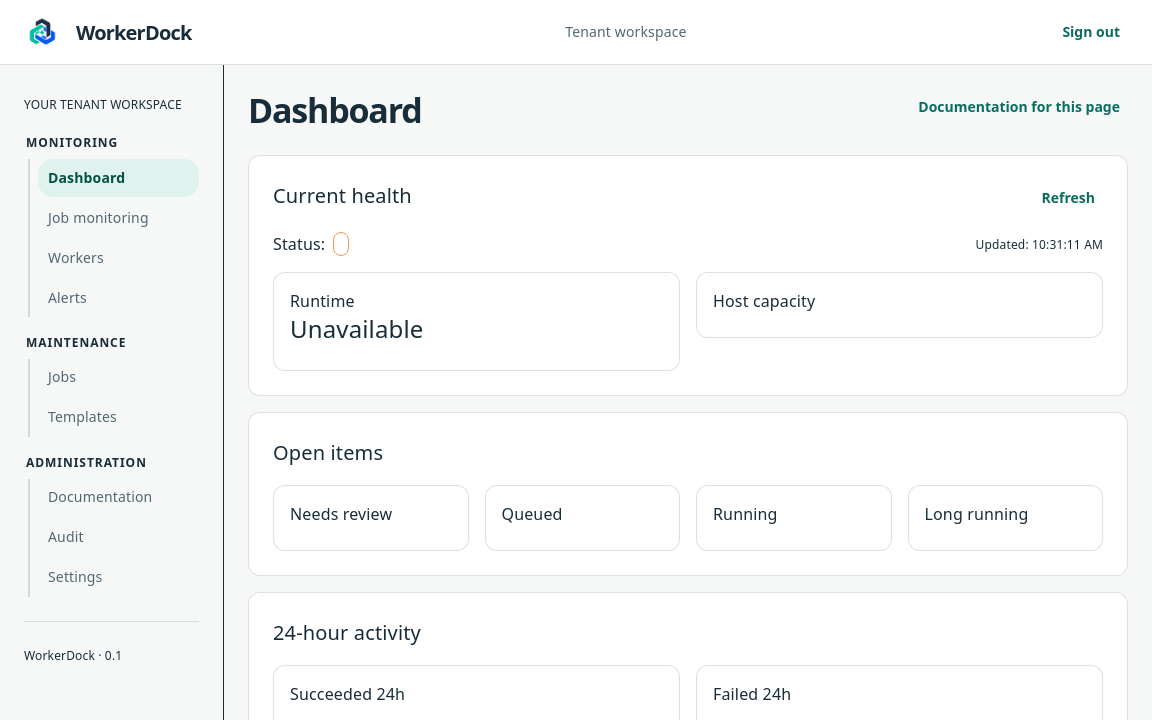
Test case: viewer reaches Jobs from app navigation and opens the controls-only detail
The width and height of the screenshot is (1152, 720).
What coordinates should you click on to do the following:
click the link "Jobs"
I would click on:
 (62, 377)
Its box is left=48, top=368, right=76, bottom=386.
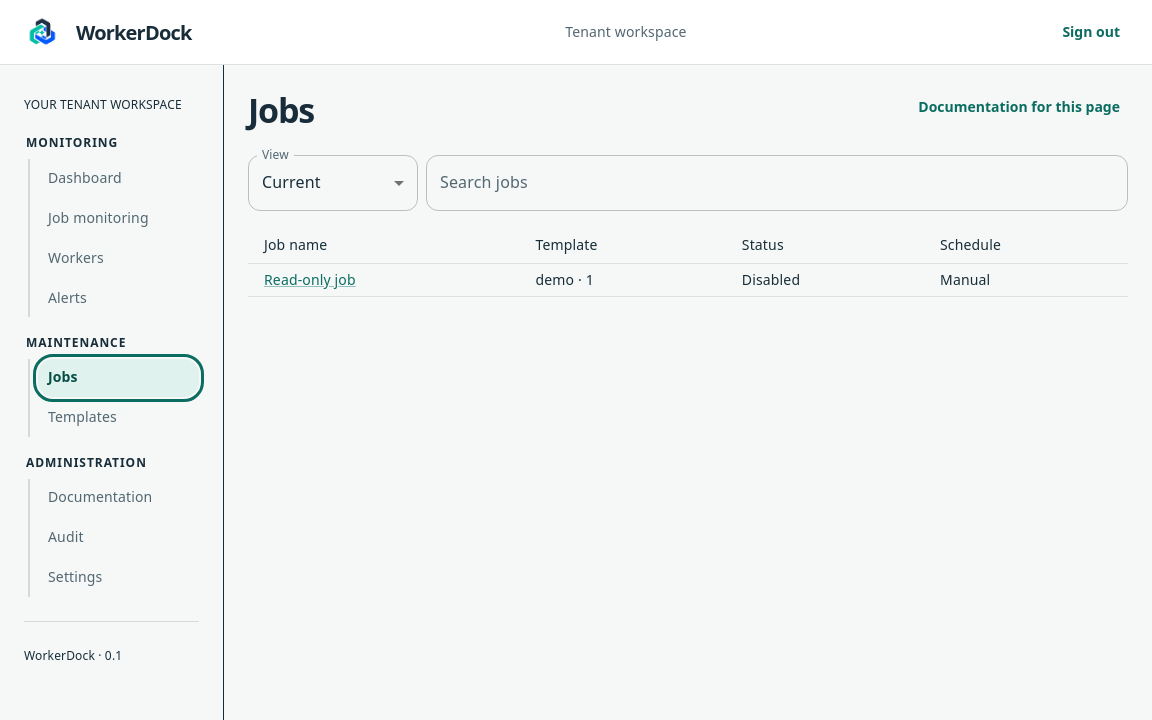
Now the link "Read-only job" is shown
What coordinates should you click on to do the following:
click the link "Read-only job"
I would click on:
 (310, 280)
Its box is left=264, top=270, right=356, bottom=289.
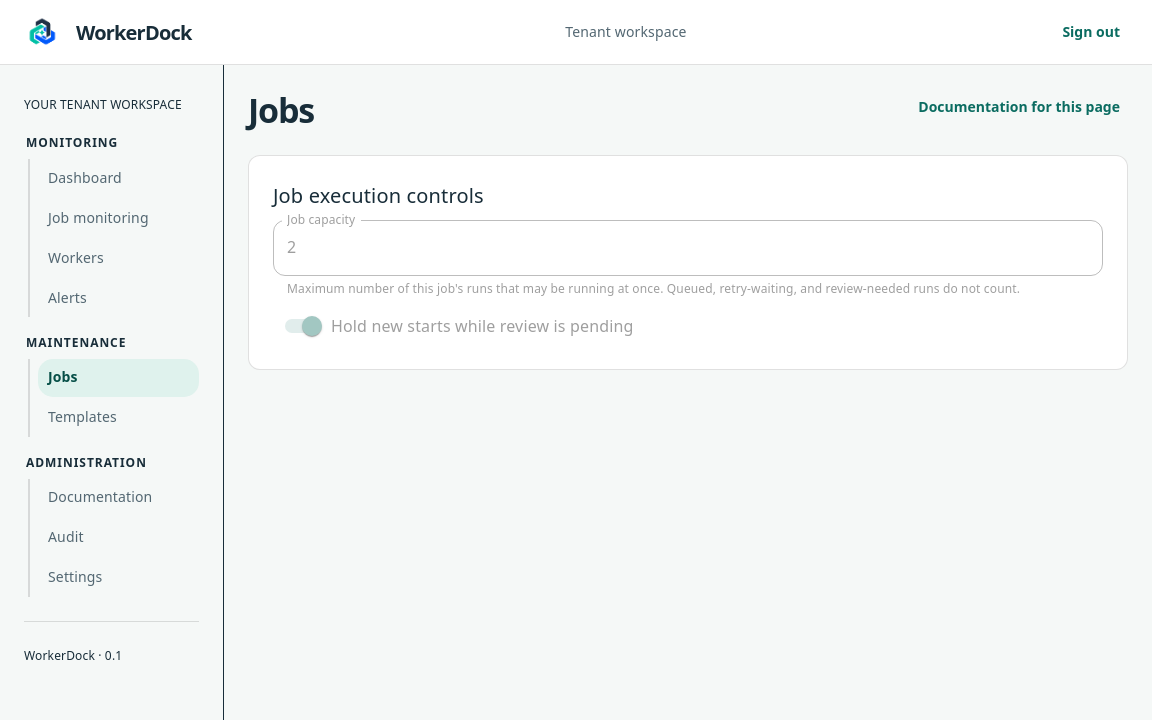
Now the number field labelled "Job capacity" holds "2", box left=273, top=220, right=1103, bottom=276
